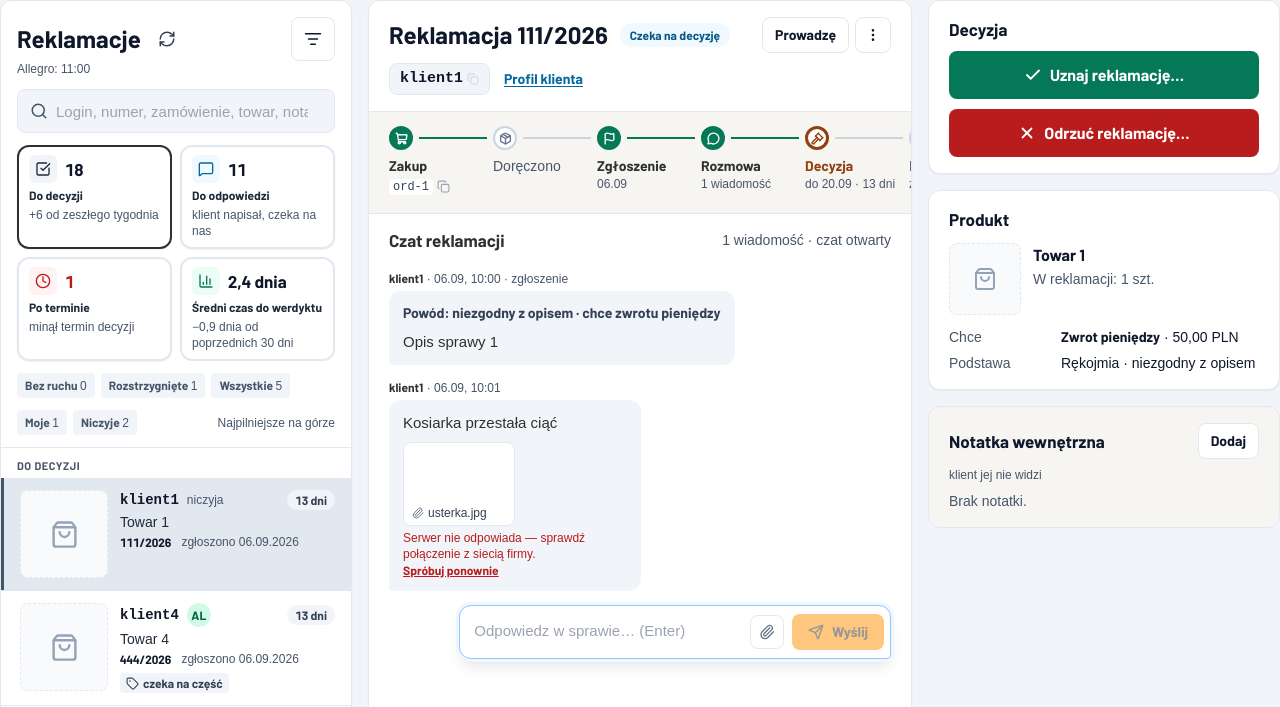
Test case: Kafle w kolejce zamiast przełącznika › cztery liczby z serwera, a kafel kubełka przestawia kolejkę i kursor
This screenshot has width=1280, height=707.
Expected: the text "18" is shown, [65, 157, 84, 181]
Expected: the text "+6 od zeszłego tygodnia" is shown, [29, 207, 159, 223]
Click the button "11 Do odpowiedzi klient napisał, czeka na nas" at x=258, y=197, box [180, 145, 335, 249]
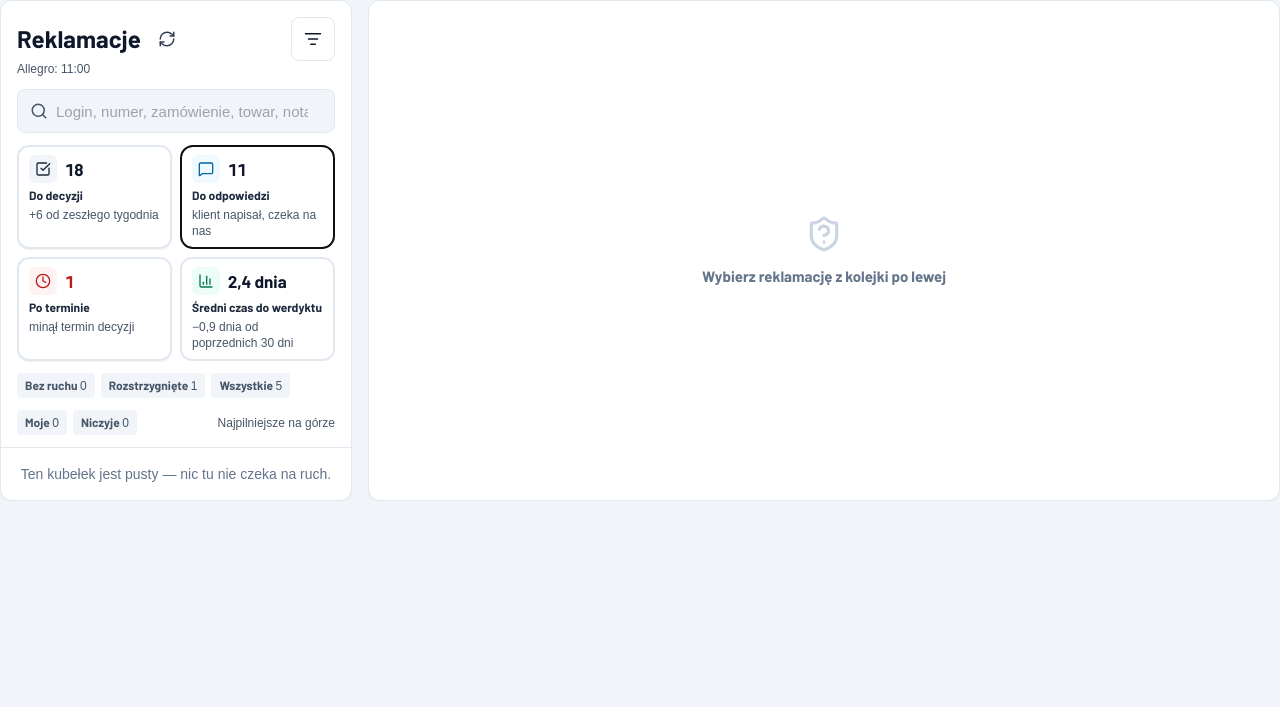
Expected: the text "Ten kubełek jest pusty — nic tu nie czeka na ruch." is shown, [17, 464, 335, 484]
